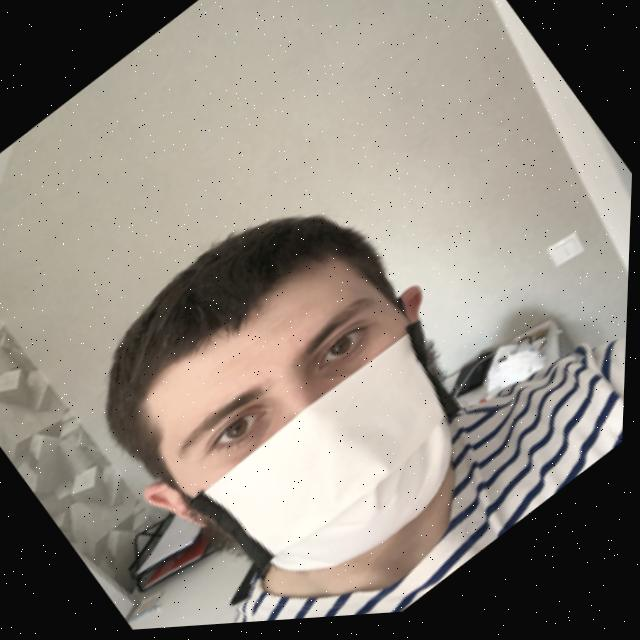Mask: (151, 291, 515, 631)
